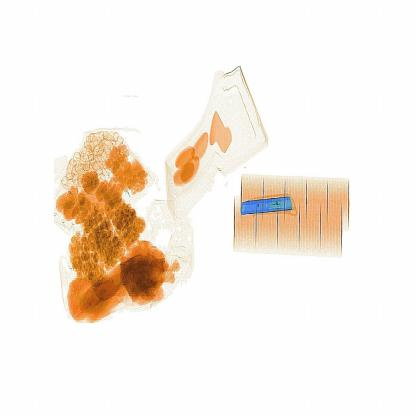pliers: (239, 187, 311, 232)
